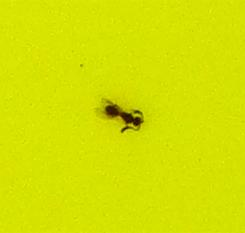Hymenoptera: (100, 100, 145, 133)
